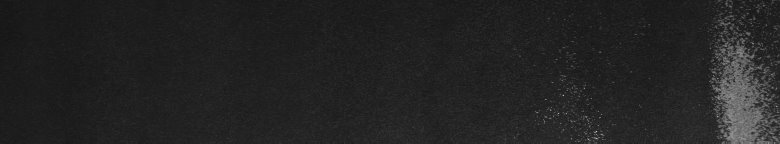kb: (720, 4, 776, 136)
